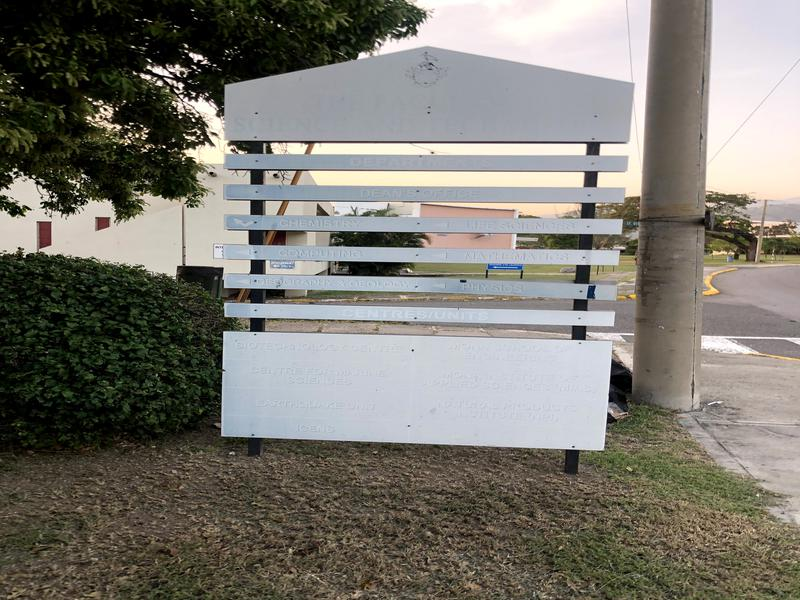18.0055634_-76.7484079_scitechsign: (186, 43, 637, 495)
